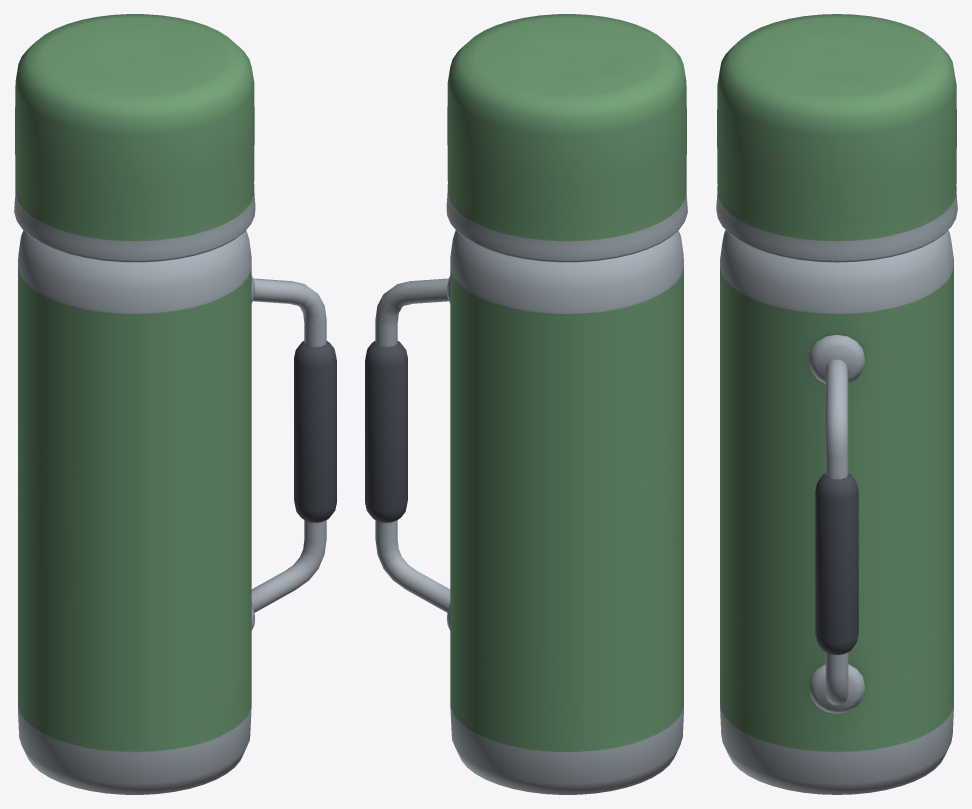
File: thermos.glb
3 views of the same model, side by side, from view 1: azimuth 30°, elevation 25°; view 2: azimuth 150°, elevation 25°; view 3: azimuth 270°, elevation 25° (orthographic).
Parts seen in each view (by area): view 1: thermos_body, thermos_cap; view 2: thermos_body, thermos_cap; view 3: thermos_body, thermos_cap.
Boxes of the visible parts, x1,y1,x2,y2 form: thermos_body: (18,230,336,794); thermos_cap: (14,14,255,262); thermos_body: (365,230,683,794); thermos_cap: (446,14,687,262); thermos_body: (720,230,953,794); thermos_cap: (716,14,957,262).
Bounding box in the file's own units: 0.1378 × 0.3022 × 0.095.
Materials: 2 (2 with a texture image).
